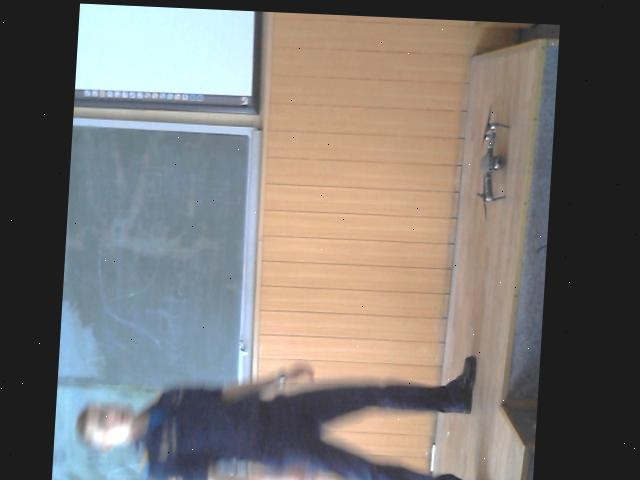drone: (468, 95, 519, 216)
